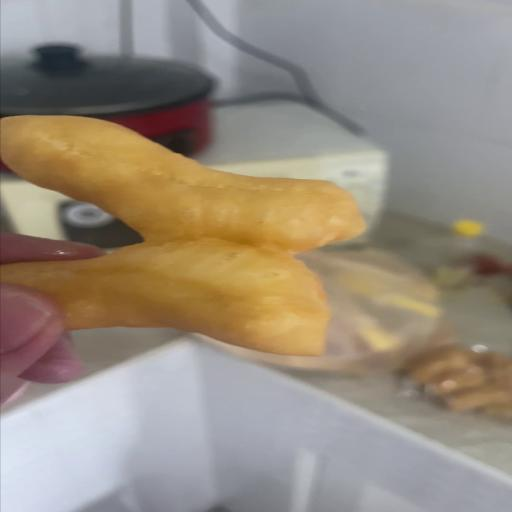street_golden_good: (0, 115, 363, 354)
